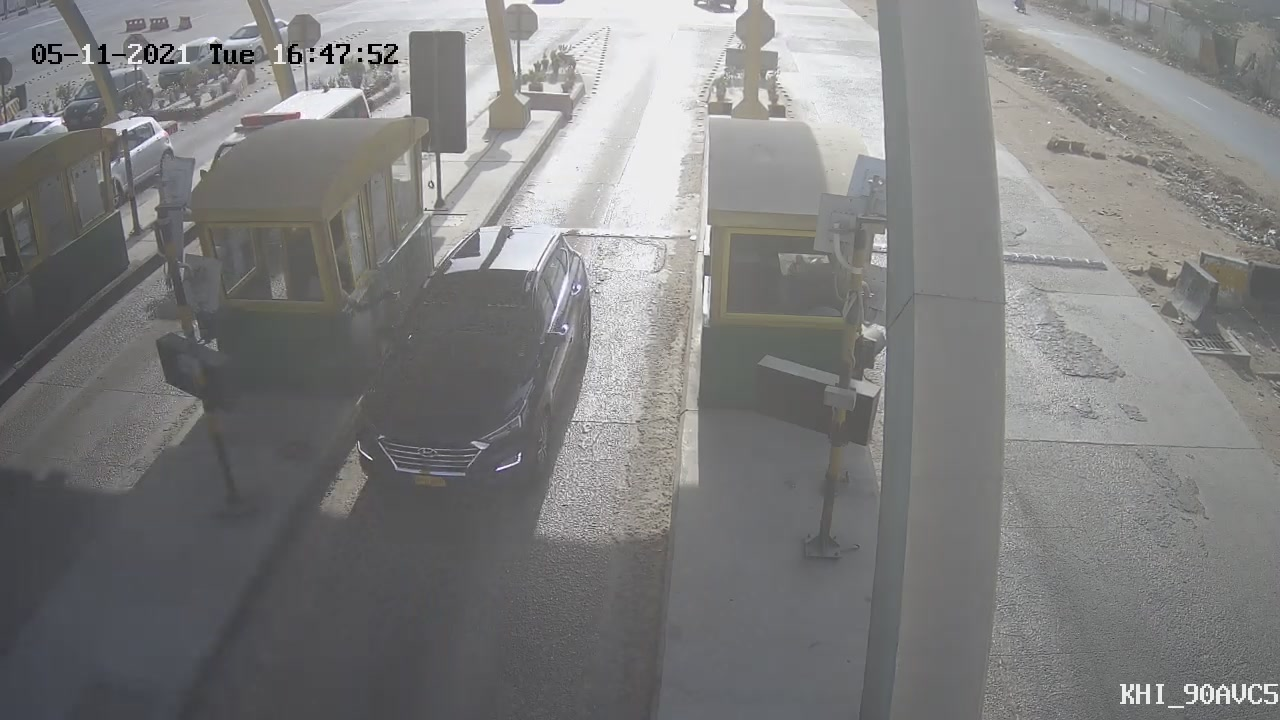F1: (331, 208, 603, 514)
